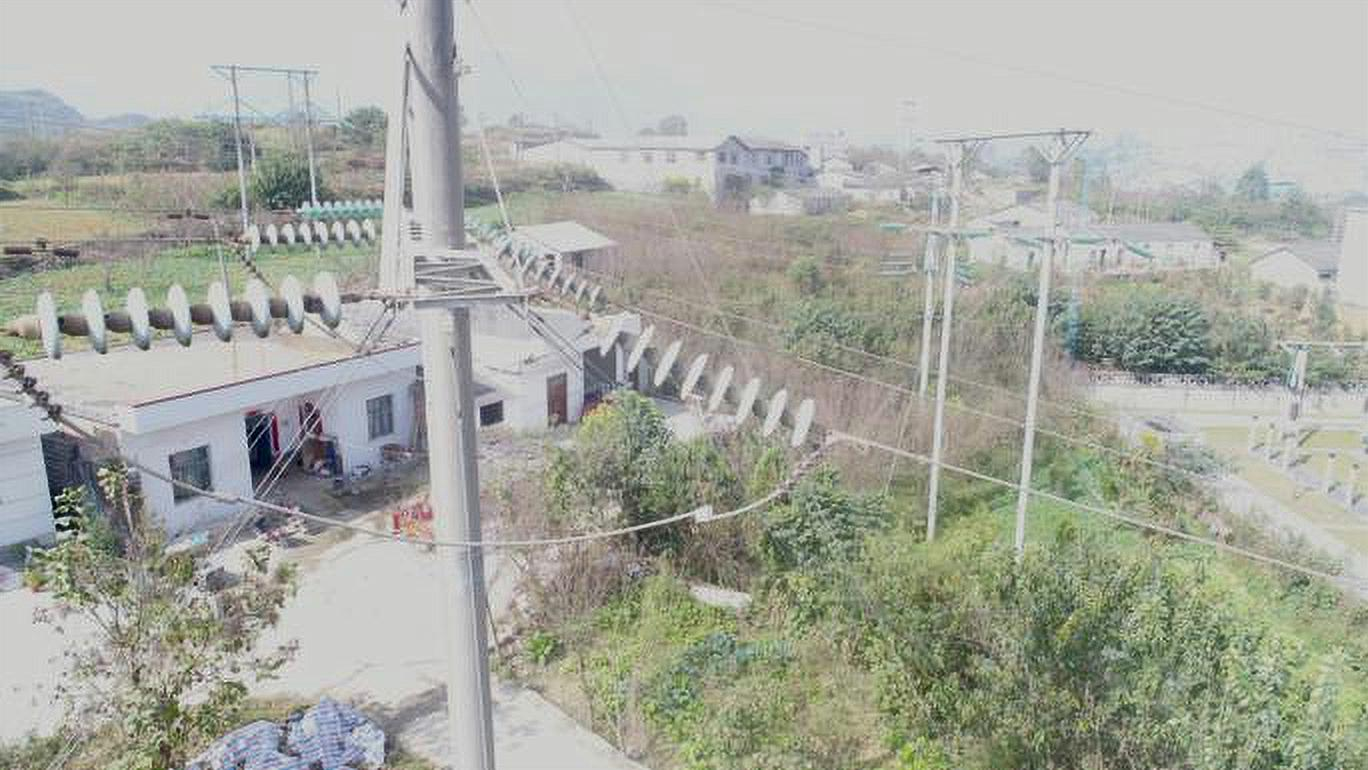insulator: (597, 311, 821, 450), (30, 268, 345, 365), (493, 238, 607, 309), (243, 215, 378, 258), (299, 194, 386, 225)
